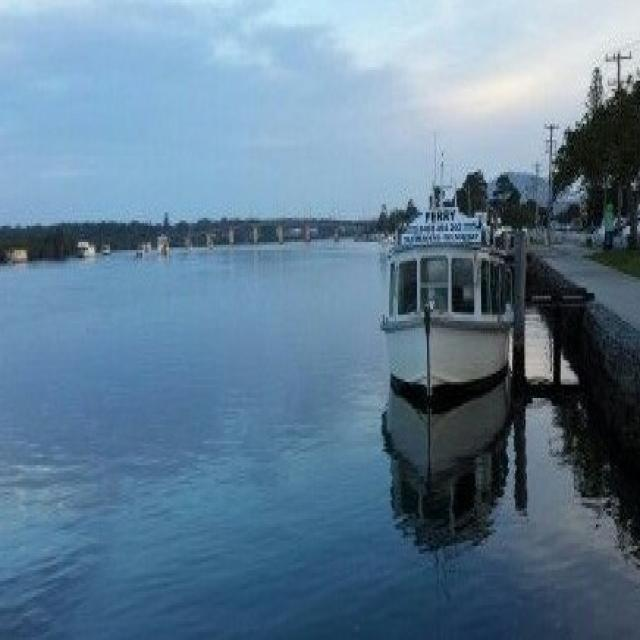houseboat: (372, 148, 514, 402)
